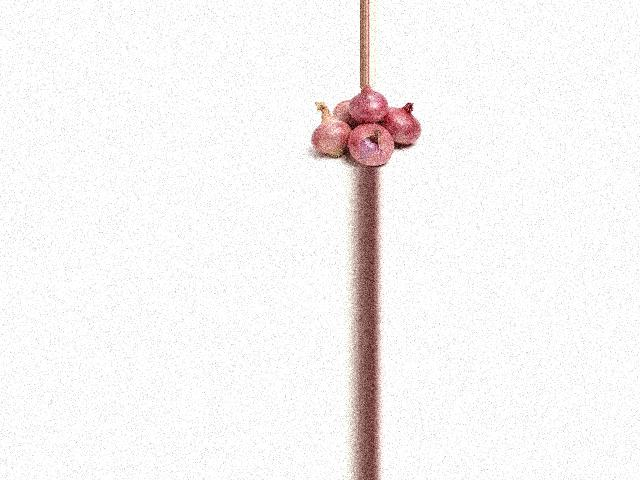onion: (338, 123, 394, 167)
